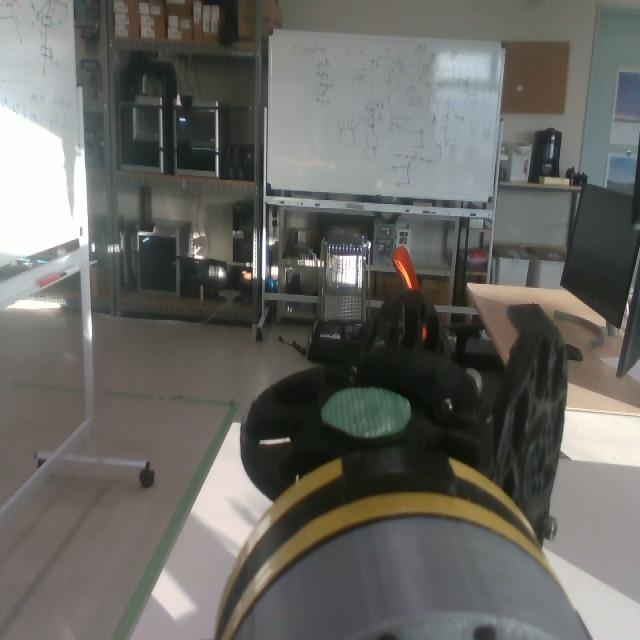body_connector: (228, 515, 588, 640)
connection: (214, 447, 592, 640)
leg: (214, 289, 568, 640)
leg_connector: (209, 448, 548, 636)
marker: (322, 385, 411, 434)
